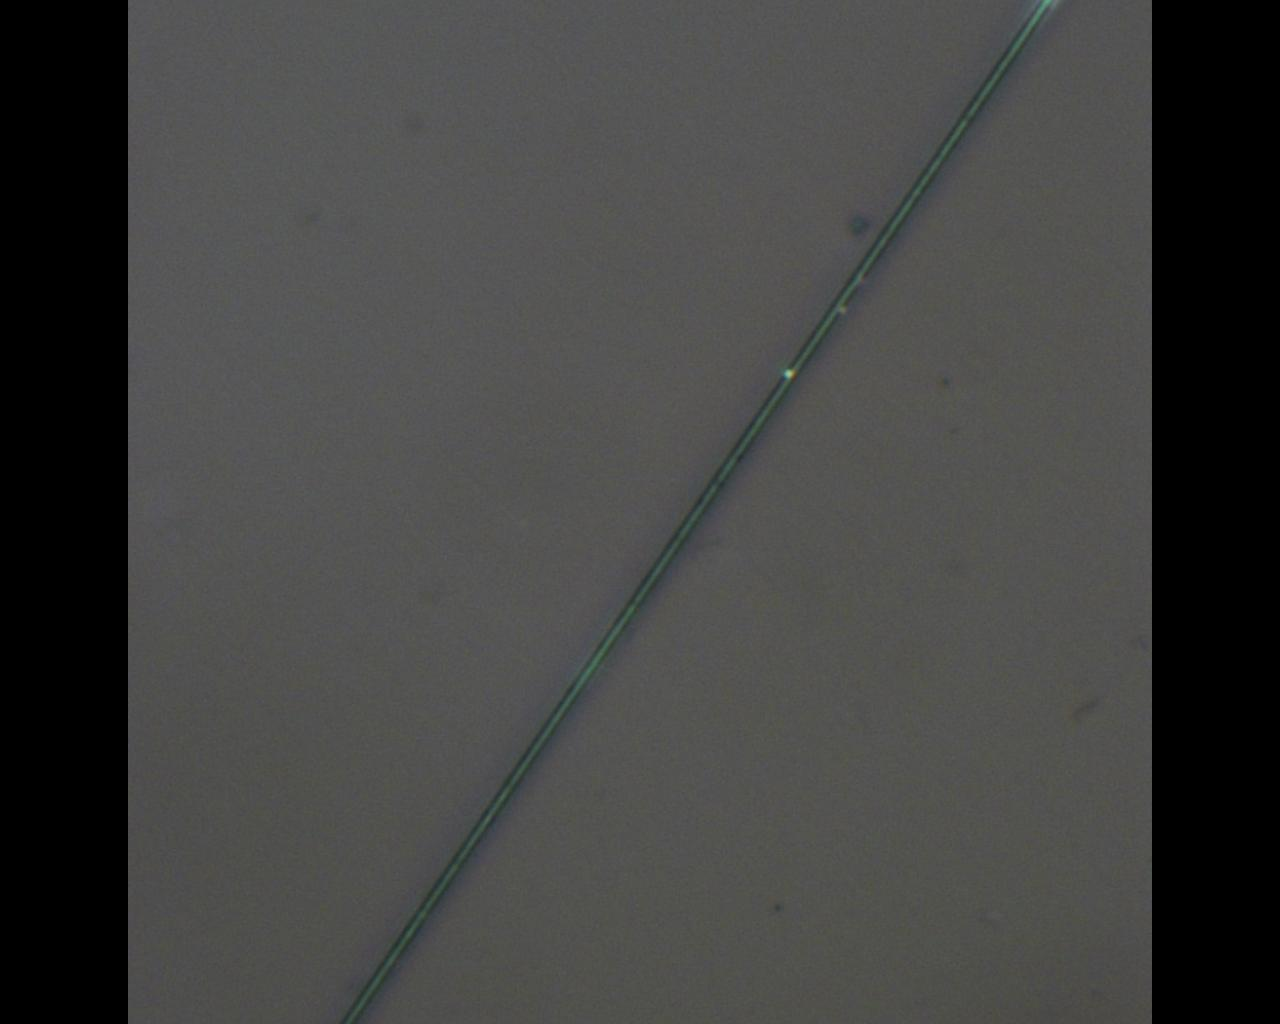fiber: (402, 501, 716, 1024), (94, 73, 819, 279), (819, 91, 1280, 398), (819, 501, 1280, 546)
